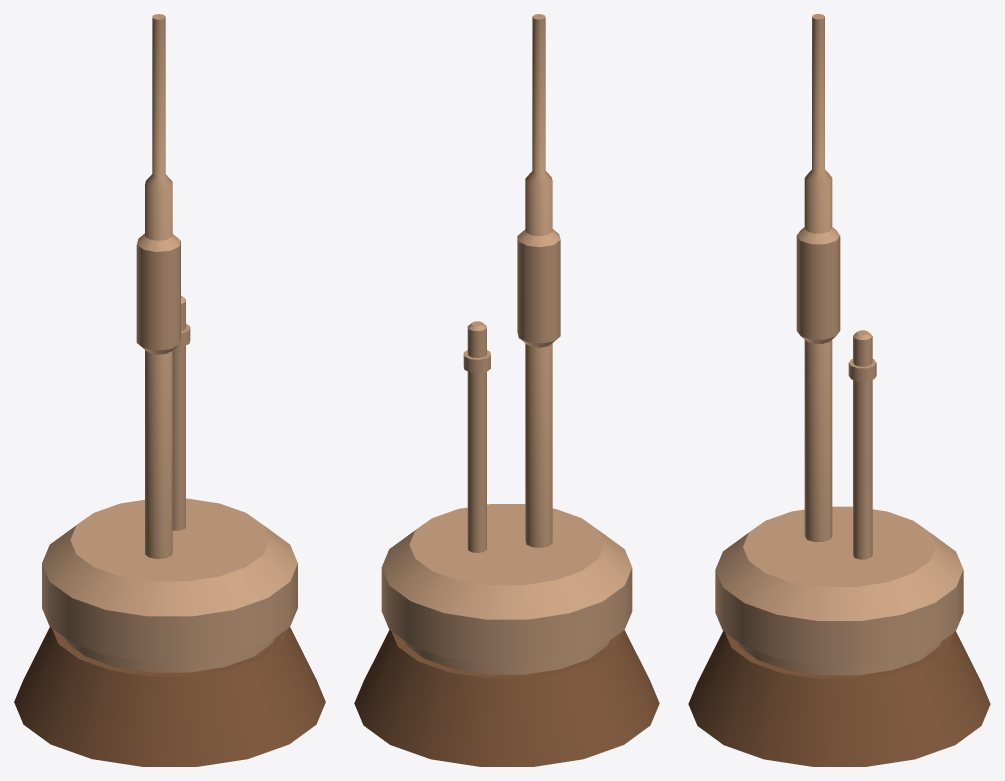
Rendered from n_roof_antenna.glb.
3 renders of one model, left to right at view 1: azimuth 30°, elevation 25°; view 2: azimuth 150°, elevation 25°; view 3: azimuth 270°, elevation 25°, orthographic. The views are drawn at different scales.
Parts seen in each view (by area): view 1: Roof_Antenna; view 2: Roof_Antenna; view 3: Roof_Antenna.
Part boxes in pixels (x1,y1,x2,y2): Roof_Antenna: [14, 14, 325, 766]; Roof_Antenna: [354, 14, 659, 766]; Roof_Antenna: [688, 14, 990, 766].
Bounding box in the file's own units: 1.41 × 3.54 × 1.43.
Materials: 1 (1 with a texture image).
